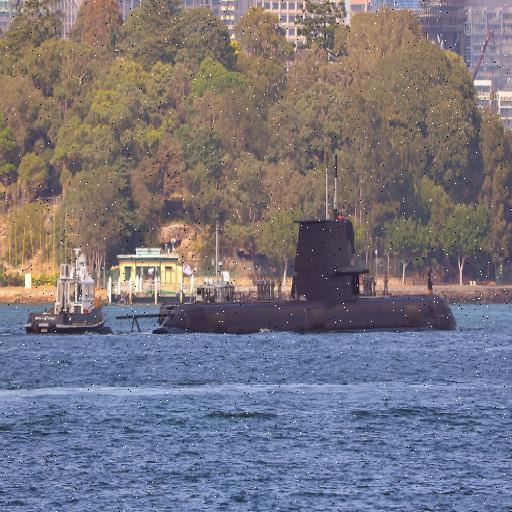submarine: (119, 215, 463, 329)
